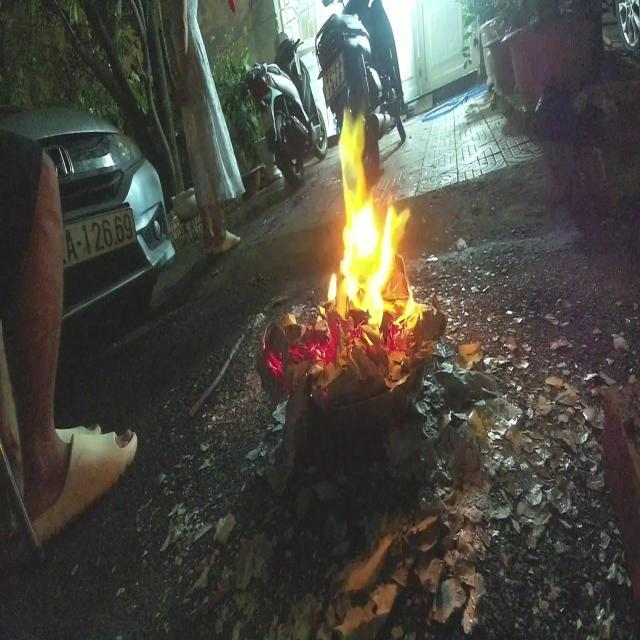Fire: (328, 103, 418, 334)
